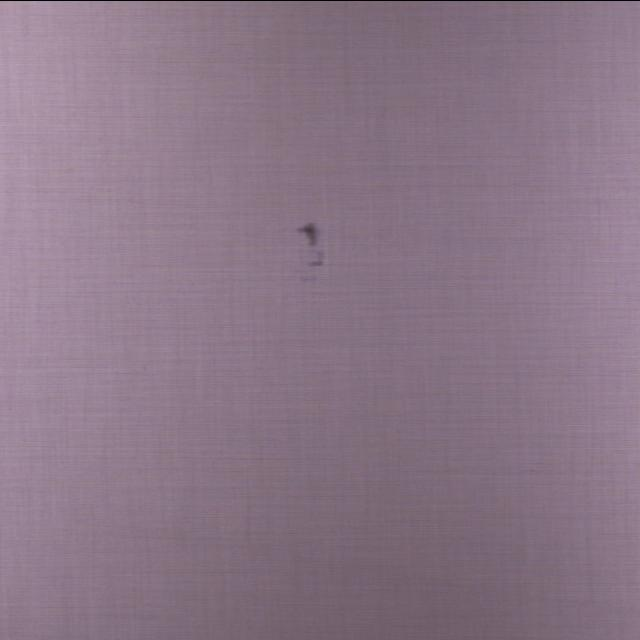dirty: (297, 221, 325, 265)
